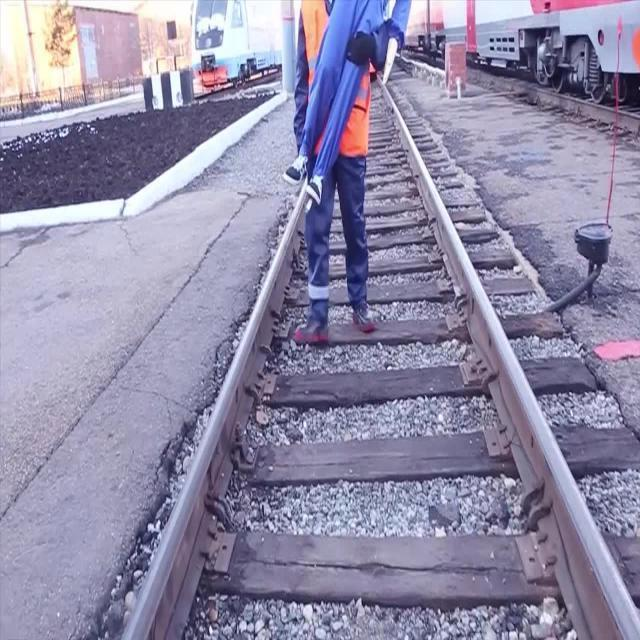10: (246, 0, 414, 362)
11: (300, 0, 370, 159)
helmet_white: (285, 284, 380, 350)
